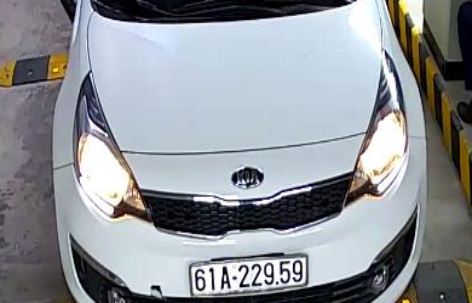plate: (183, 246, 313, 298)
